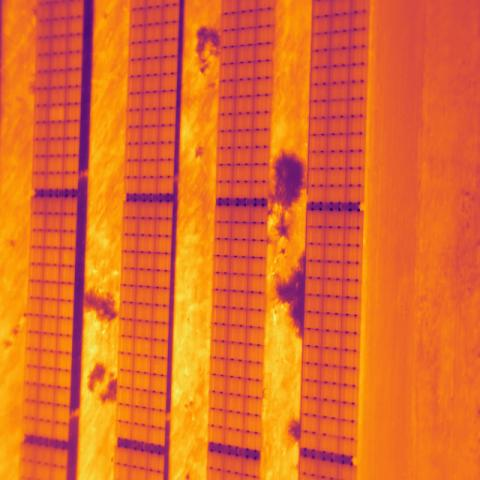fault: (48, 104, 67, 122)
